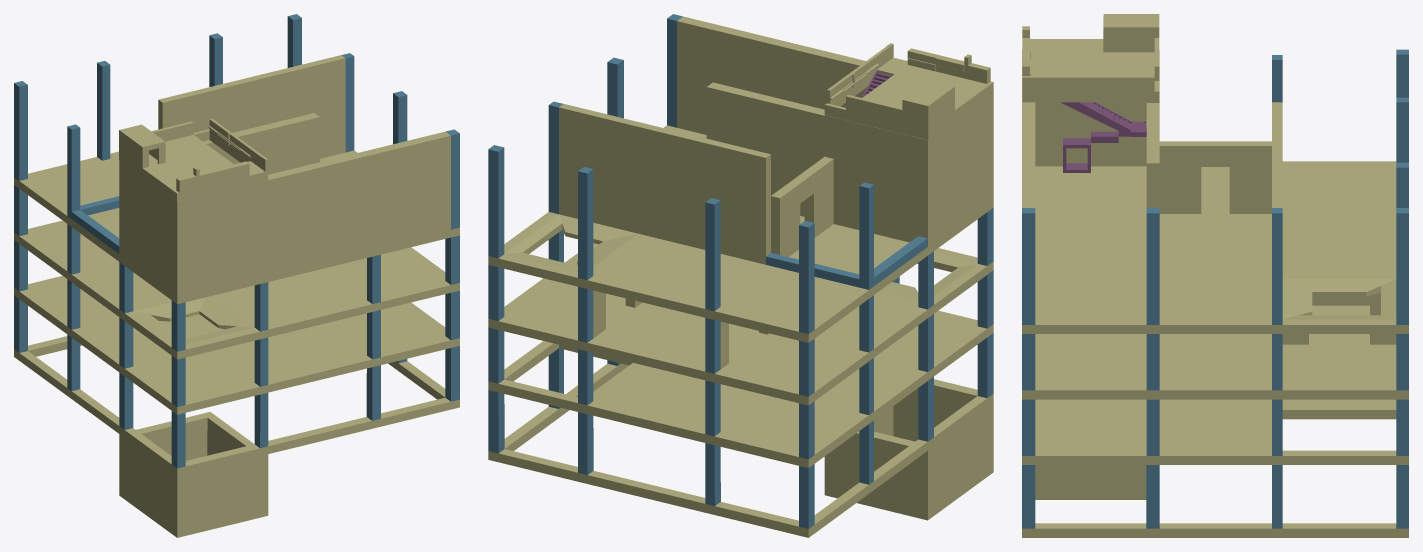
The model's file is buildingNEW.fbx.
The picture shows the model from 3 angles, left to right: view 1: azimuth 30°, elevation 25°; view 2: azimuth 150°, elevation 25°; view 3: azimuth 270°, elevation 25°; orthographic projection. The views are drawn at different scales.
Parts seen in each view (by area): view 1: BuildingNew; view 2: BuildingNew; view 3: BuildingNew.
Boxes of the visible parts, bbox=[...] form: BuildingNew: bbox=[14, 14, 459, 537]; BuildingNew: bbox=[488, 14, 993, 537]; BuildingNew: bbox=[1022, 14, 1408, 537].
Bounding box in the file's own units: 82.7 × 102 × 82.64.
